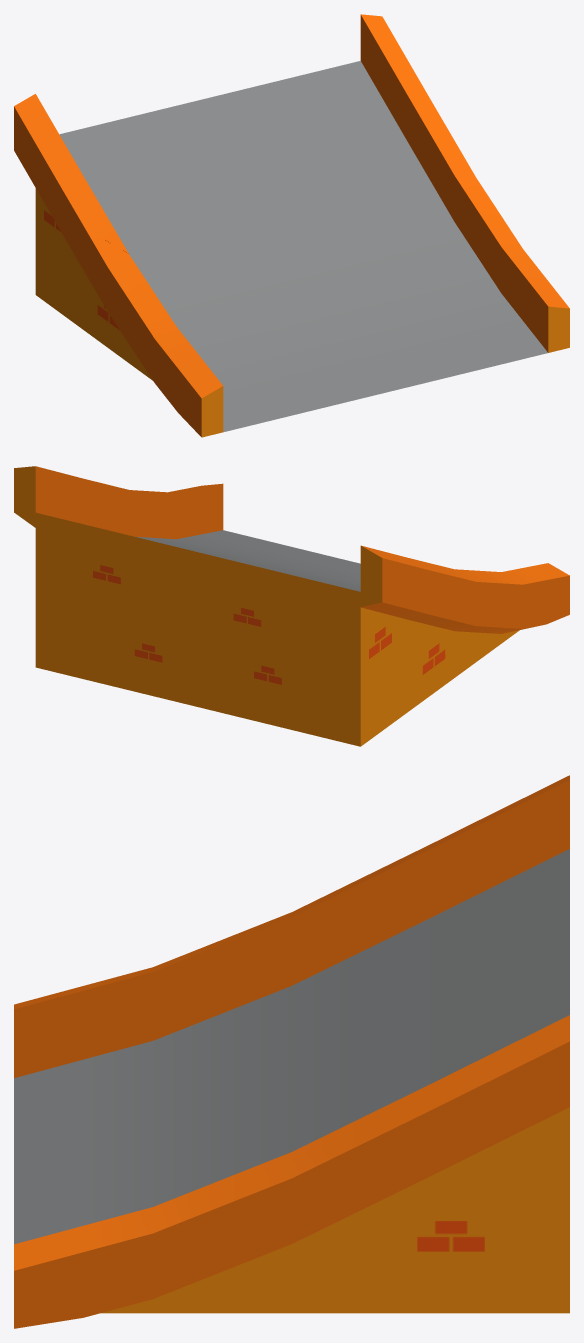
The model's file is Bridge1Ramp1.fbx.
The picture shows the model from 3 angles, top to bottom: view 1: azimuth 30°, elevation 25°; view 2: azimuth 150°, elevation 25°; view 3: azimuth 270°, elevation 25°; orthographic projection. The views are drawn at different scales.
Parts seen in each view (by area): view 1: Bridge1Ramp1; view 2: Bridge1Ramp1; view 3: Bridge1Ramp1.
Part boxes in pixels (x1,y1,x2,y2): Bridge1Ramp1: (14,14,569,437); Bridge1Ramp1: (14,466,569,746); Bridge1Ramp1: (14,775,569,1328).
Bounding box in the file's own units: 13.6 × 7.1 × 12.
